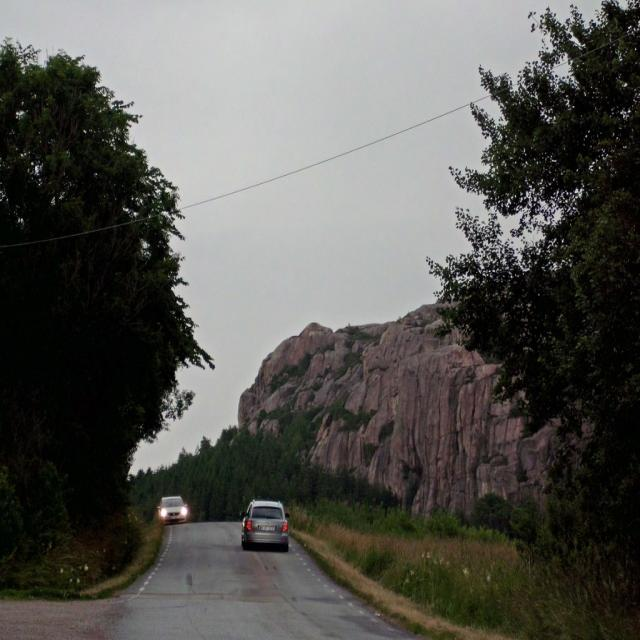car: (238, 494, 287, 547), (156, 490, 190, 524)
